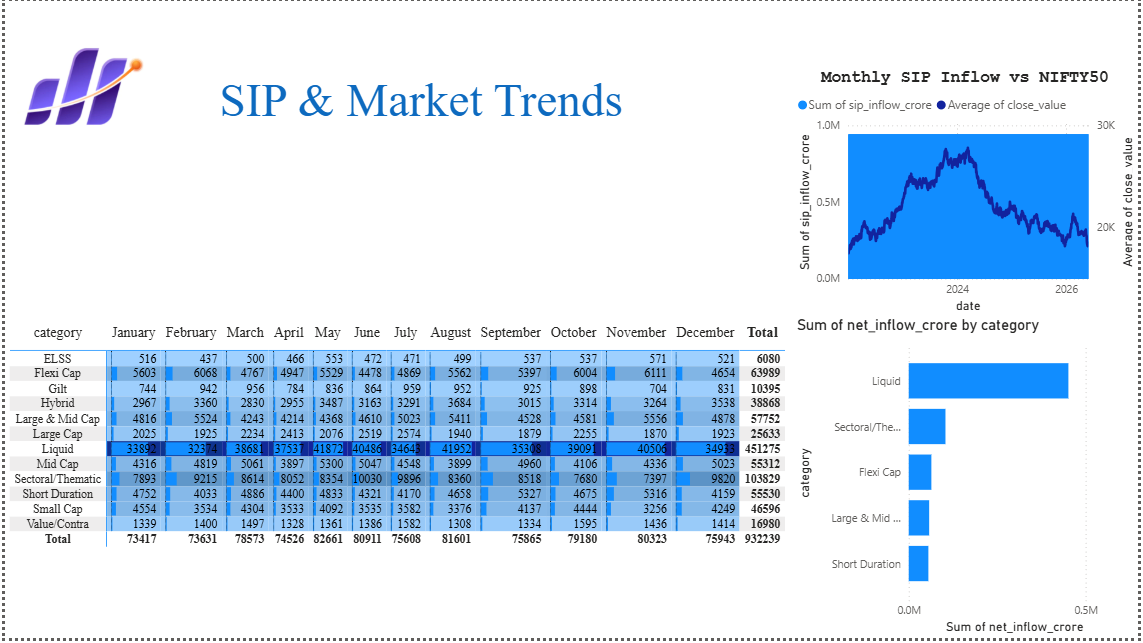

The page's visual inventory and layout, read from the dashboard file:
{"tool":"powerbi","page":{"name":"SIP & Market Trends","canvas":[1280,720],"ordinal":3},"visuals":[{"type":"lineClusteredColumnComboChart","title":"Monthly SIP Inflow vs NIFTY50","fields":{"Category":["10_benchmark_indices_clean.date"],"Y":["Sum(04_monthly_sip_inflows_clean.sip_inflow_crore)"],"Y2":["Avg(10_benchmark_indices_clean.close_value)"]},"box":[889.5,75.7,389.9,280.1],"z":0},{"type":"pivotTable","fields":{"Rows":["05_category_inflows_clean.category"],"Columns":["05_category_inflows_clean.month.Variation.Date Hierarchy.Month"],"Values":["Sum(05_category_inflows_clean.net_inflow_crore)"]},"box":[0,359.6,889.5,359.6],"z":1},{"type":"clusteredBarChart","fields":{"Y":["Sum(05_category_inflows_clean.net_inflow_crore)"],"Category":["05_category_inflows_clean.category"]},"box":[889.5,355.8,389.9,363.4],"z":2},{"type":"textbox","box":[236.6,75.7,476.9,85.2],"z":3},{"type":"image","box":[0,0,176,194.9],"z":4}]}

Visuals, with their boxes in screenshot pixels (x1, y1, x2, y2), scaled from the page's 1280x720 canvas onto the 1143x643 screenshot:
"Monthly SIP Inflow vs NIFTY50" lineClusteredColumnComboChart: 794,68,1142,318
pivotTable - 05_category_inflows_clean.category x 05_category_inflows_clean.month.Variation.Date Hierarchy.Month: 0,321,794,642
clusteredBarChart - Sum(05_category_inflows_clean.net_inflow_crore) x 05_category_inflows_clean.category: 794,318,1142,642
textbox: 211,68,637,144
image: 0,0,157,174
